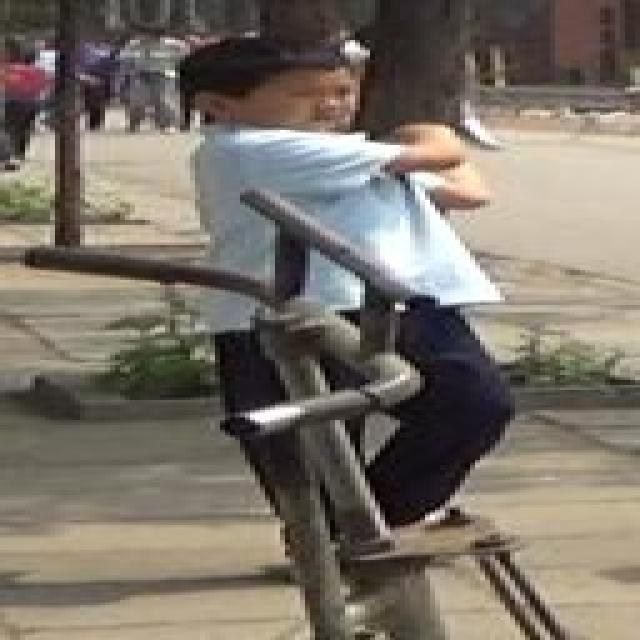child: (139, 33, 542, 534)
